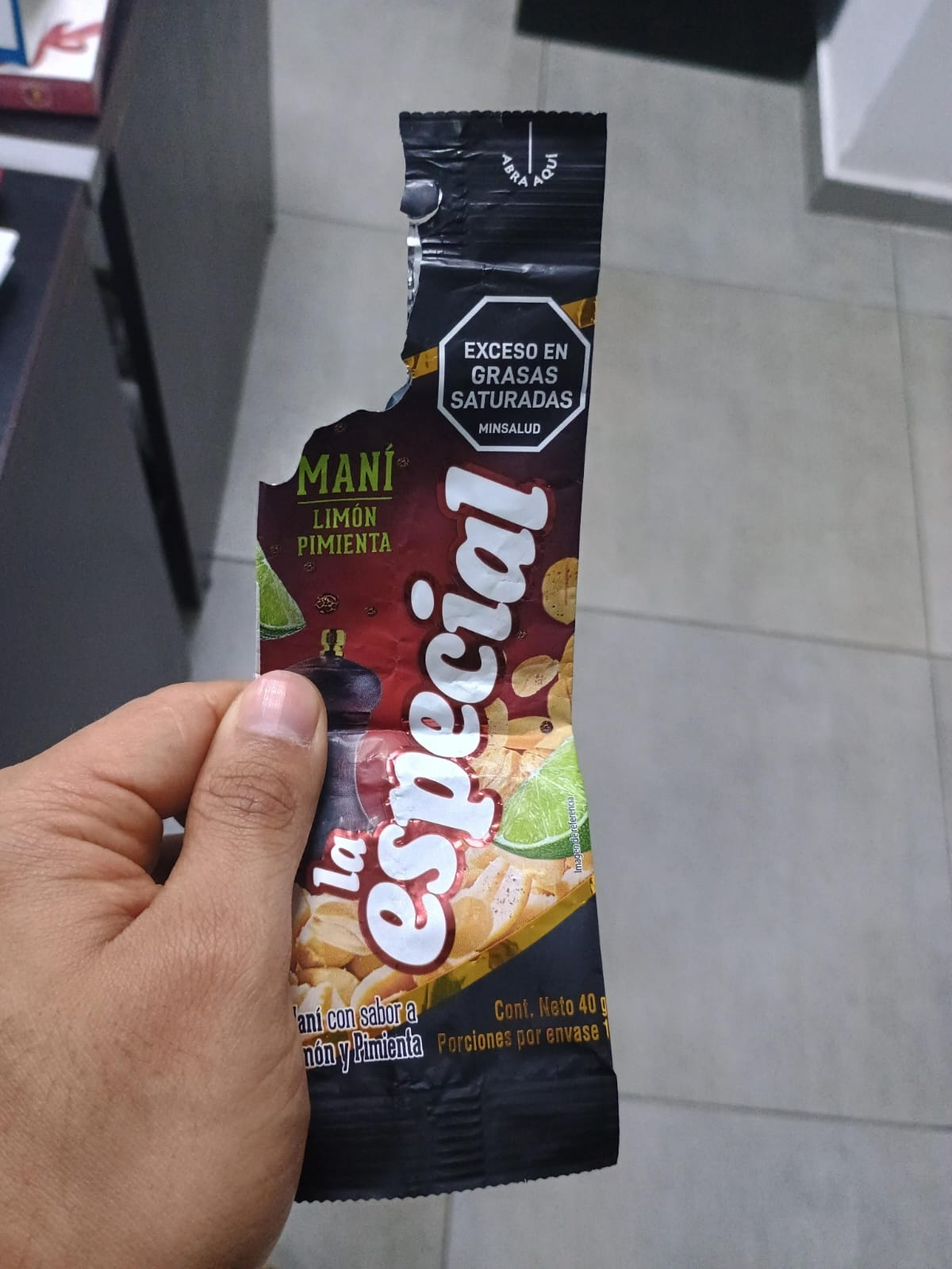Ordinario: (257, 112, 623, 1202)
